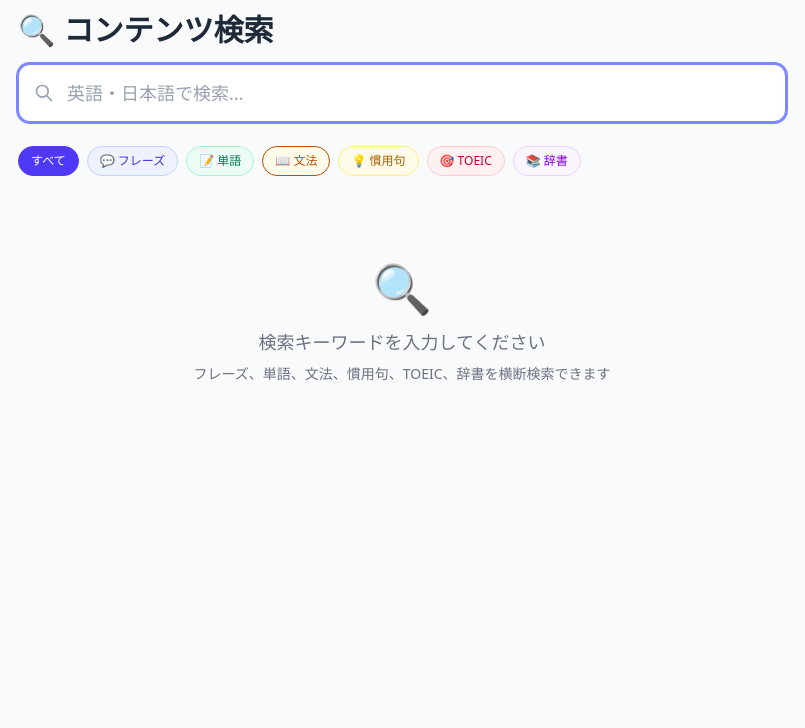
it: SearchPage › narrows results to a single group via "すべて" then re-selecting one group
In the field named "コンテンツを検索": (402,93) [18, 64, 786, 122], type "you"
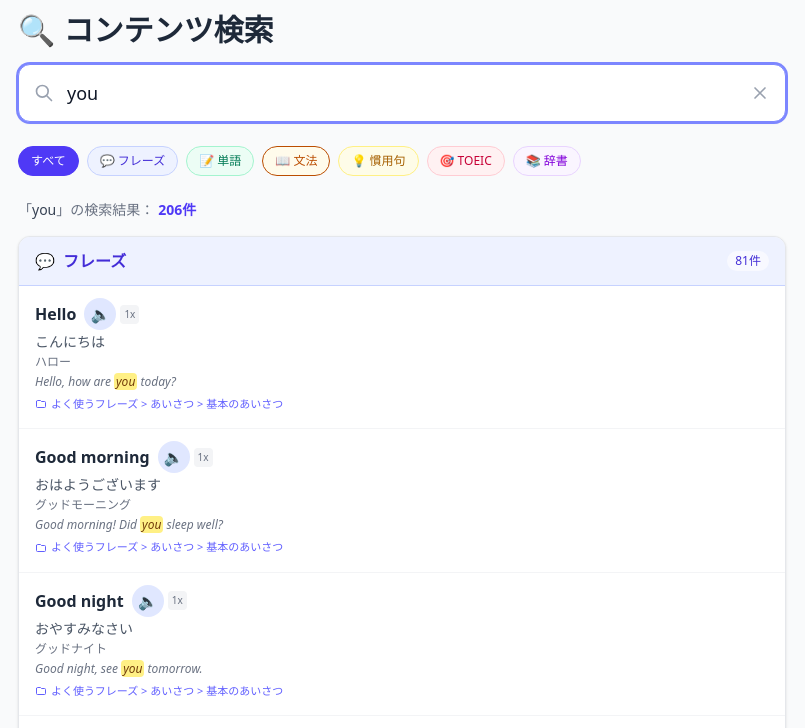
Check: the text "「you」の検索結果：206件" is shown, box [18, 200, 196, 219]
Click the button "すべて": (48,161) [18, 146, 79, 176]
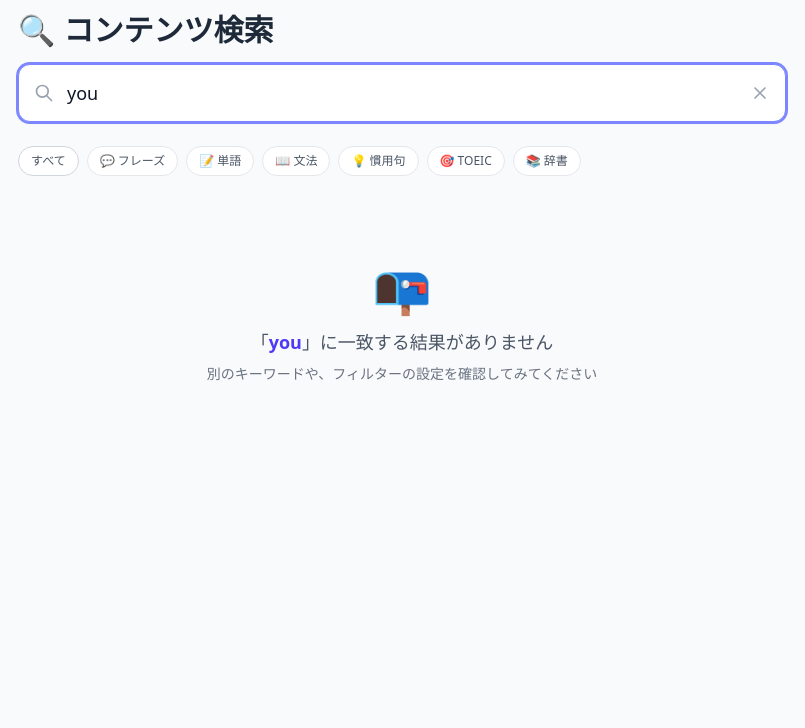
Check: the text "「you」に一致する結果がありません" is shown, box [251, 330, 553, 354]
Click the button "💬 フレーズ": (132,161) [87, 146, 178, 176]
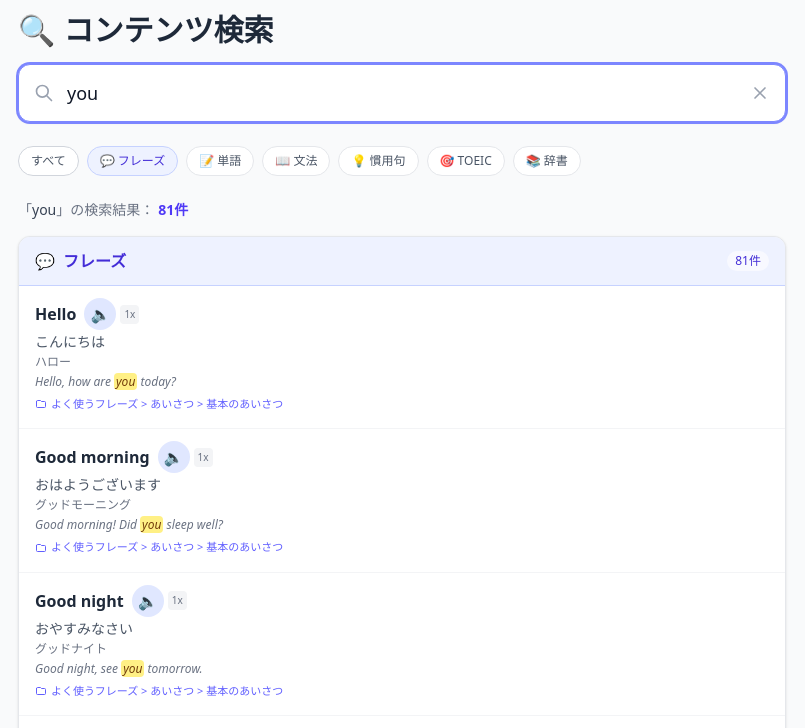
Check: the text "「you」の検索結果：81件" is shown, box [18, 200, 188, 219]
